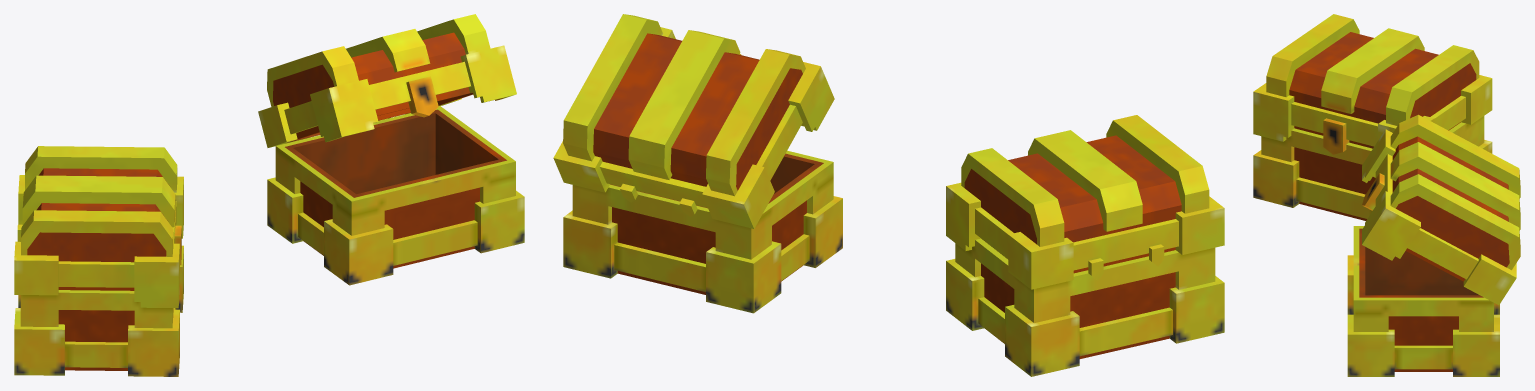
File: Chest.fbx
3 views of the same model, side by side, from view 1: azimuth 30°, elevation 25°; view 2: azimuth 150°, elevation 25°; view 3: azimuth 270°, elevation 25° (orthographic). The views are drawn at different scales.
Parts seen in each view (by area): view 1: 盖子框架.001, 箱体框架, 盖子框架, 箱体, 箱体框架.001, 盖子.001, 盖子, 箱体.001; view 2: 盖子框架, 盖子框架.001, 箱体框架, 箱体框架.001, 盖子, 盖子.001, 箱体, 箱体.001; view 3: 盖子框架, 盖子框架.001, 箱体框架, 箱体框架.001, 盖子.001, 箱体, 盖子, 箱体.001.
Boxes of the visible parts, left/top/right/bottom form: 盖子框架.001: left=14, top=146, right=183, bottom=308; 箱体框架: left=267, top=106, right=524, bottom=285; 盖子框架: left=258, top=14, right=516, bottom=147; 箱体: left=285, top=109, right=506, bottom=268; 箱体框架.001: left=14, top=245, right=183, bottom=376; 盖子.001: left=27, top=168, right=169, bottom=290; 盖子: left=273, top=32, right=473, bottom=143; 箱体.001: left=58, top=310, right=134, bottom=370; 盖子框架: left=553, top=14, right=834, bottom=228; 盖子框架.001: left=946, top=115, right=1224, bottom=289; 箱体框架: left=563, top=150, right=842, bottom=313; 箱体框架.001: left=946, top=238, right=1224, bottom=376; 盖子: left=593, top=33, right=802, bottom=190; 盖子.001: left=964, top=135, right=1181, bottom=273; 箱体: left=610, top=153, right=823, bottom=294; 箱体.001: left=981, top=263, right=1175, bottom=358; 盖子框架: left=1362, top=114, right=1520, bottom=304; 盖子框架.001: left=1253, top=14, right=1492, bottom=154; 箱体框架: left=1347, top=226, right=1499, bottom=376; 箱体框架.001: left=1253, top=116, right=1492, bottom=218; 盖子.001: left=1289, top=32, right=1476, bottom=148; 箱体: left=1359, top=228, right=1483, bottom=371; 盖子: left=1392, top=136, right=1509, bottom=281; 箱体.001: left=1294, top=147, right=1375, bottom=220.
Size of the model in its own units: 592 by 222 by 285.
